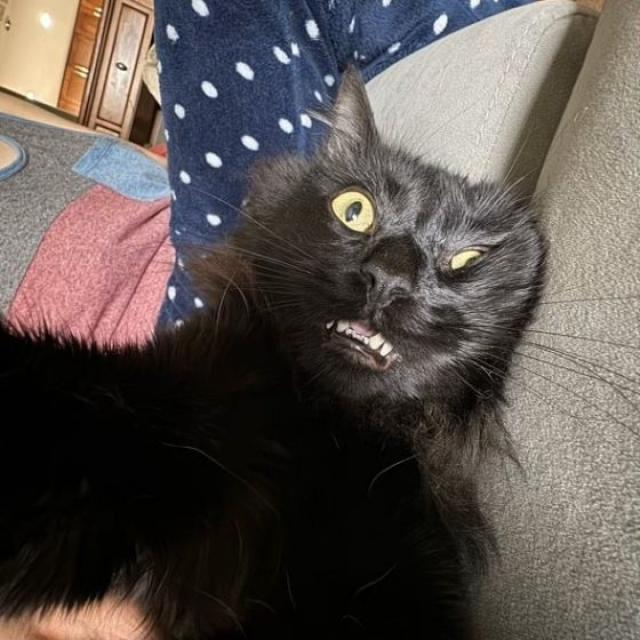domestic_long_hair_cat: (153, 39, 557, 463)
